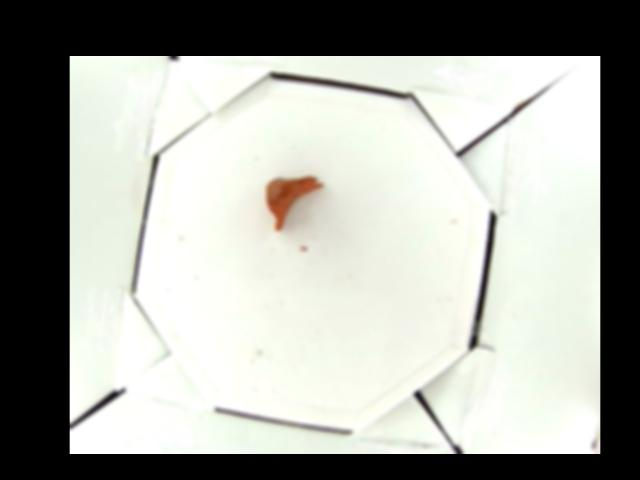Brisk: (266, 174, 326, 230)
